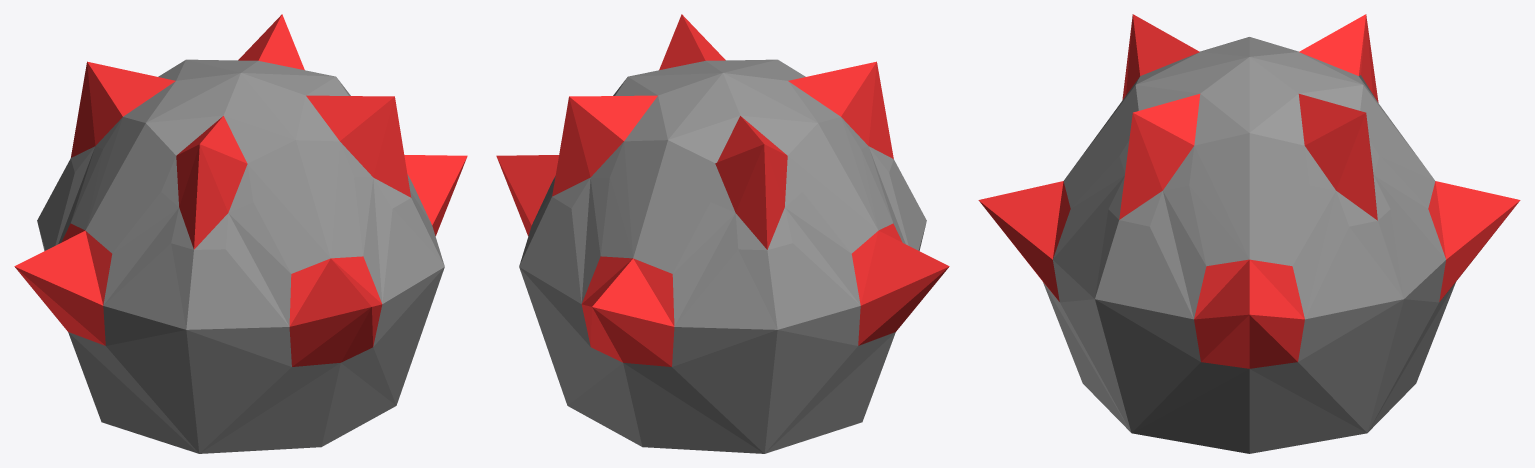
File: Cactus_4.FBX
3 views of the same model, side by side, from view 1: azimuth 30°, elevation 25°; view 2: azimuth 150°, elevation 25°; view 3: azimuth 270°, elevation 25° (orthographic). The views are drawn at different scales.
Parts seen in each view (by area): view 1: Box001; view 2: Box001; view 3: Box001.
Boxes of the visible parts, x1,y1,x2,y2 form: Box001: (14,14,467,453); Box001: (496,14,949,453); Box001: (978,14,1520,453).
Bounding box in the file's own units: 26.59 × 17.67 × 26.59.
